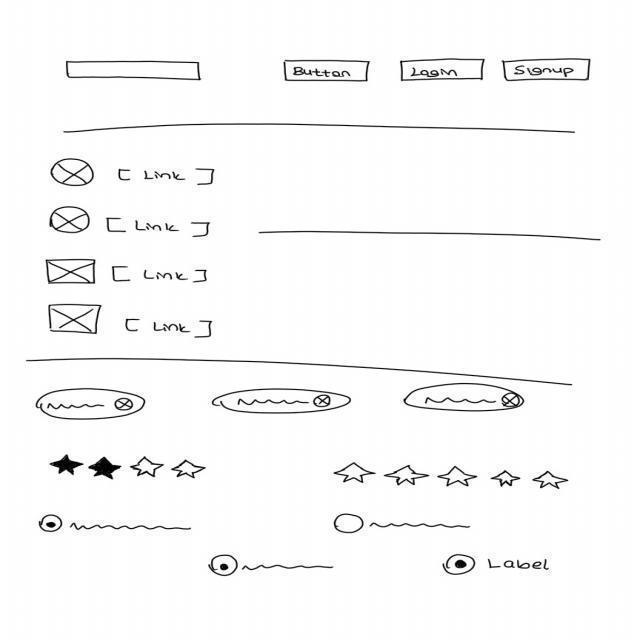button: (502, 58, 593, 83), (284, 60, 374, 84), (400, 59, 487, 83)
image: (49, 303, 105, 335), (46, 259, 98, 287), (50, 159, 97, 188), (50, 207, 92, 235)
input: (65, 60, 205, 83)
link: (108, 217, 215, 241), (111, 264, 210, 287), (125, 318, 217, 342), (117, 168, 218, 187)
radio: (442, 552, 478, 578), (210, 555, 244, 581), (334, 513, 366, 536), (39, 514, 66, 534)
